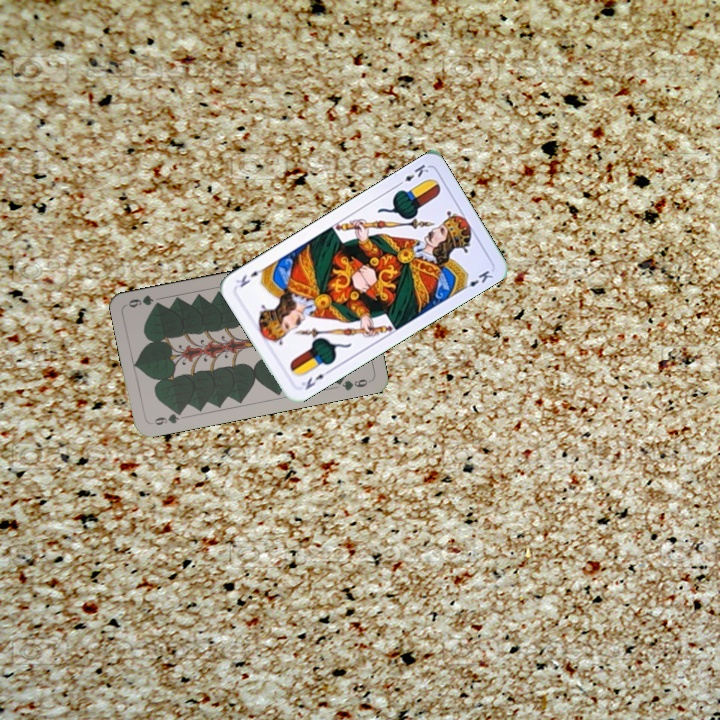EK: (393, 160, 431, 189), (297, 365, 333, 392)
G9: (147, 407, 185, 428)
